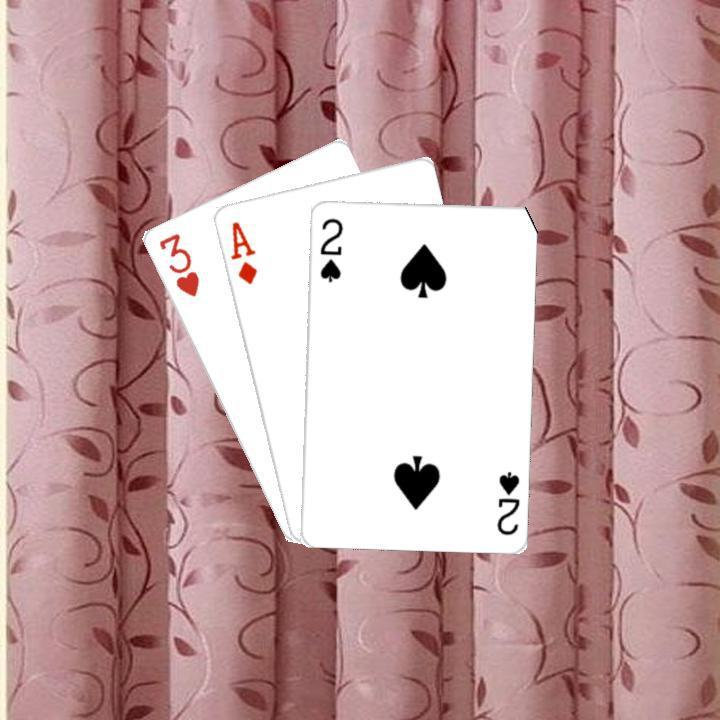2: (315, 213, 345, 284), (492, 466, 521, 537)
3: (154, 228, 201, 299)
A: (226, 217, 259, 286)
